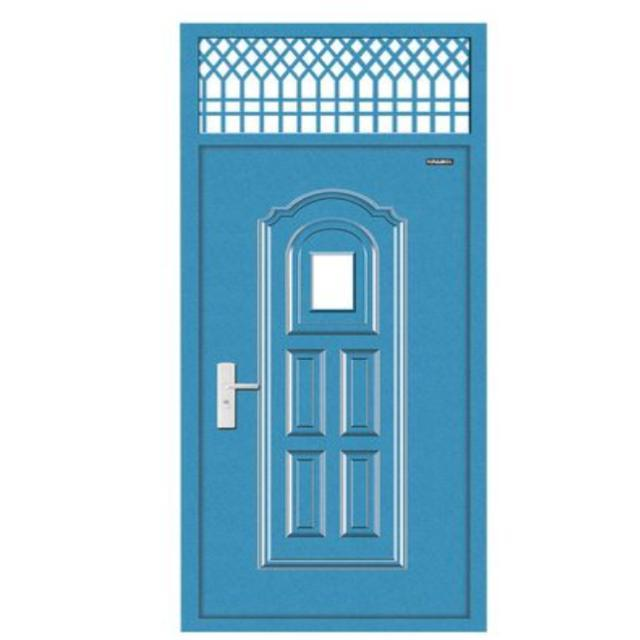door_local: (180, 20, 490, 632)
